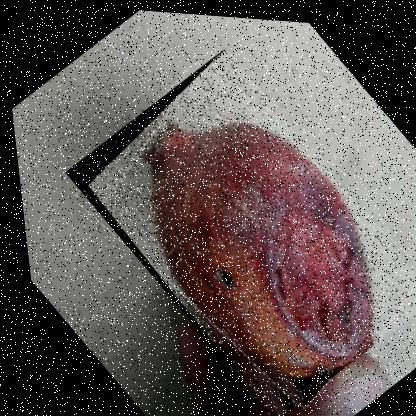pomegranate_rotten: (47, 32, 415, 415)
